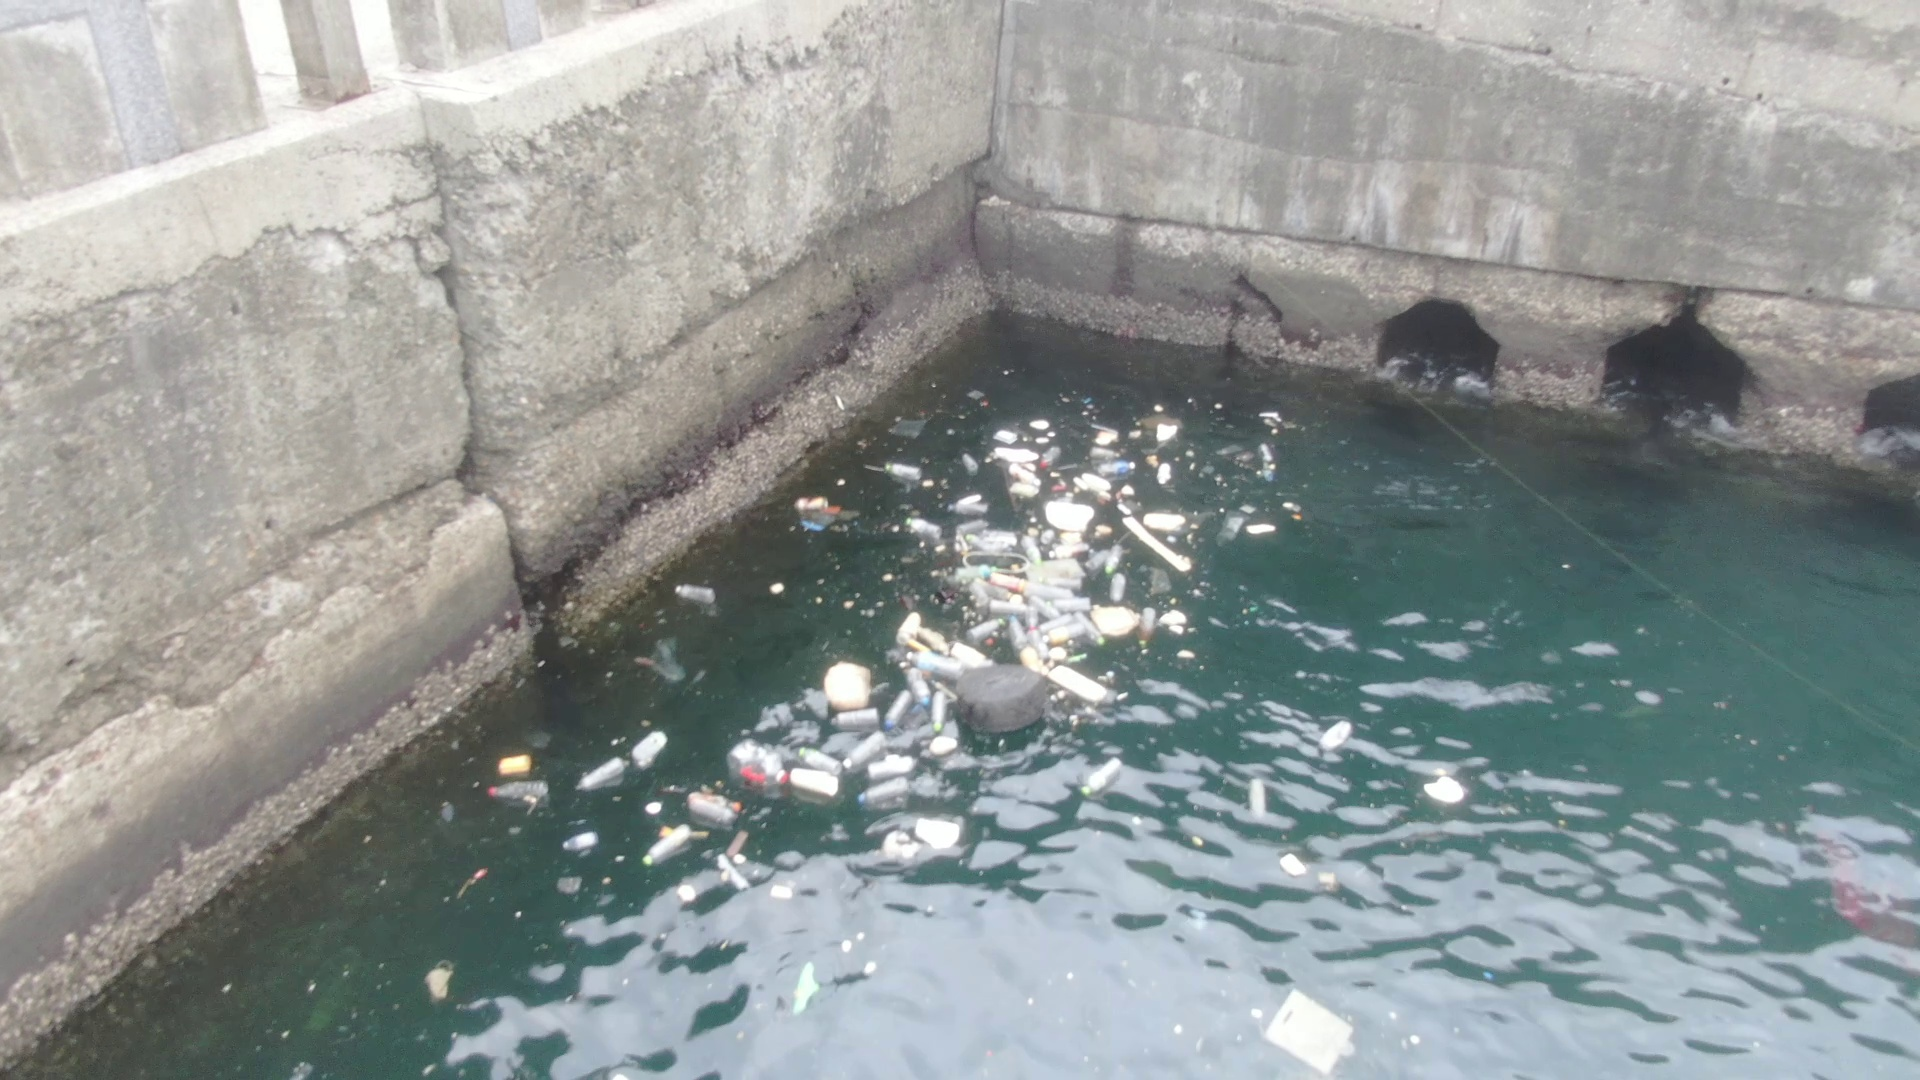bottle: (568, 752, 630, 796), (857, 774, 918, 814), (671, 567, 723, 613), (483, 775, 559, 804), (636, 829, 695, 866), (903, 665, 939, 711), (823, 709, 887, 735)
garbage: (791, 487, 1209, 770), (1225, 683, 1482, 1080), (454, 735, 982, 906), (870, 376, 1312, 576)
